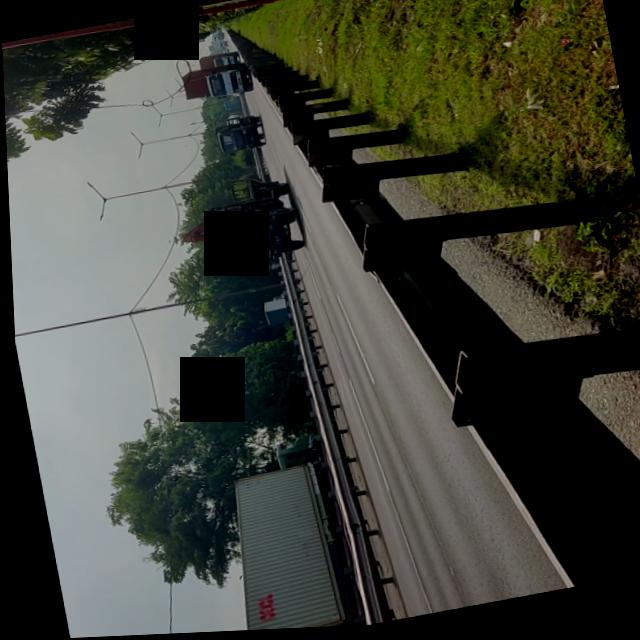Golongan II: (192, 167, 310, 276)
